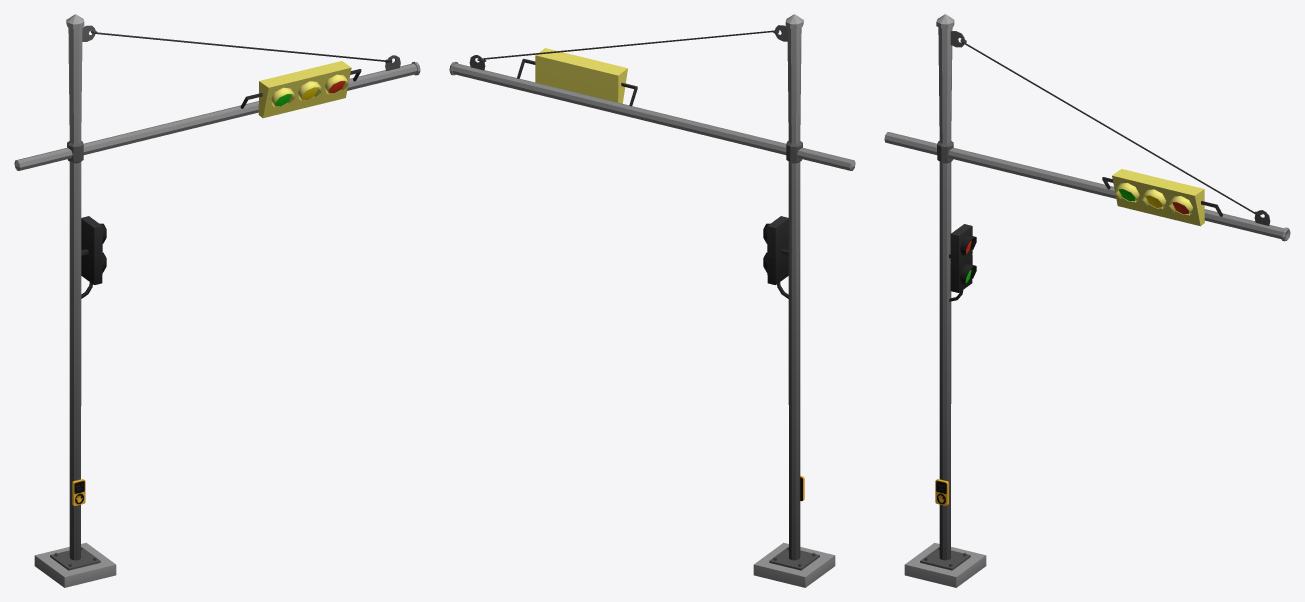
File: TraficLight 1.fbx
3 views of the same model, side by side, from view 1: azimuth 30°, elevation 25°; view 2: azimuth 150°, elevation 25°; view 3: azimuth 330°, elevation 25° (orthographic).
Parts seen in each view (by area): view 1: TraficLight1_LOD0; view 2: TraficLight1_LOD0; view 3: TraficLight1_LOD0.
Part boxes in pixels (bbox=[...]): TraficLight1_LOD0: bbox=[14, 14, 420, 587]; TraficLight1_LOD0: bbox=[449, 14, 855, 587]; TraficLight1_LOD0: bbox=[884, 14, 1290, 587].
Size of what is drawn, in the model's own units: 1084 by 1432 by 150.
